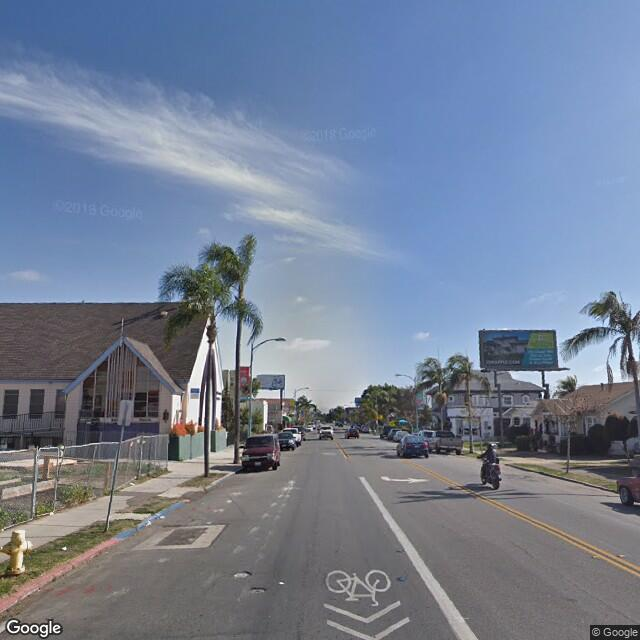road line: (382, 531, 463, 633), (352, 454, 409, 522), (544, 522, 600, 561)
